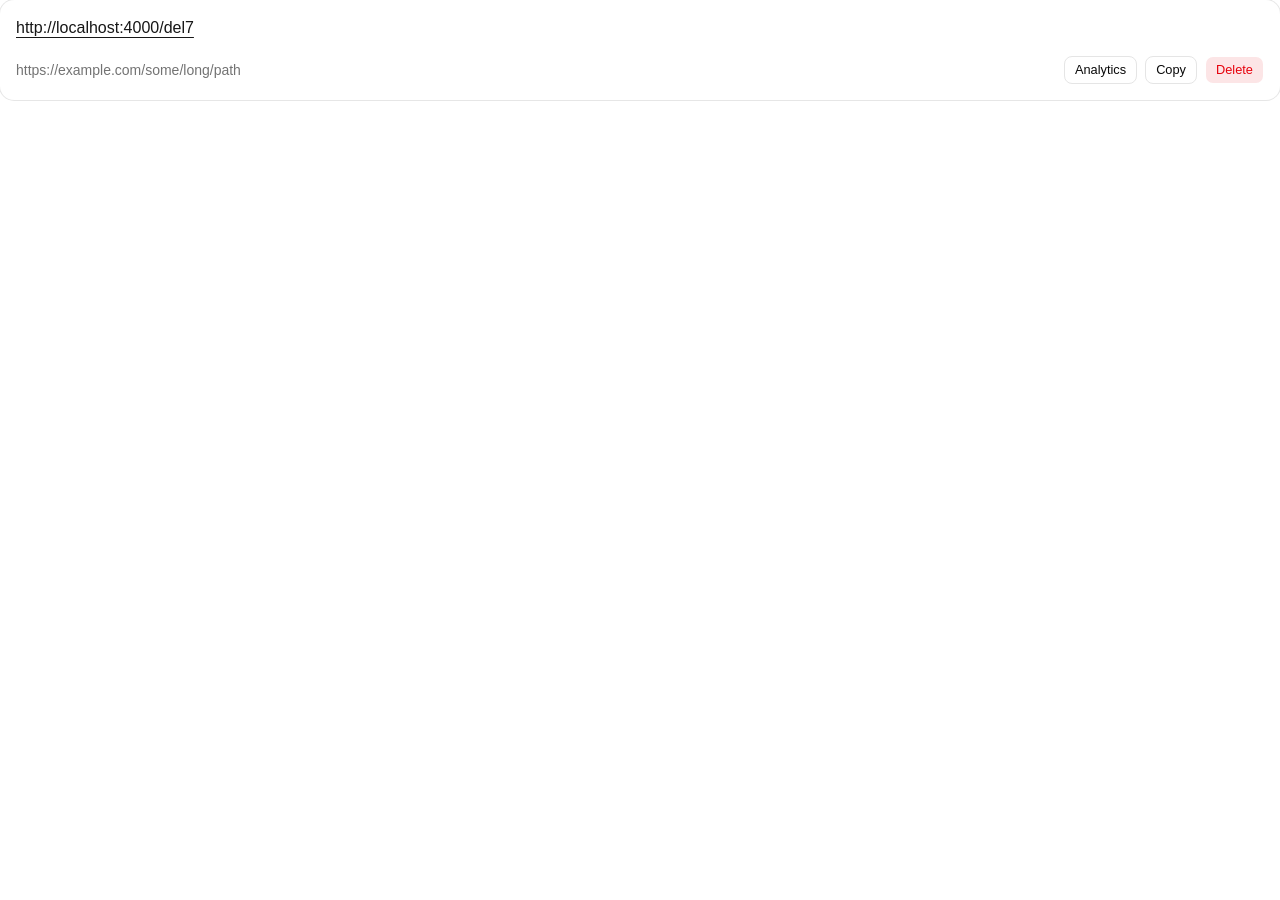
Test: LinksList › opens the confirm dialog on Delete click instead of deleting immediately
Expected: the text "Delete this link?" is not shown
Click the button "Delete". click: (1234, 70)
box: [1205,56,1264,84]
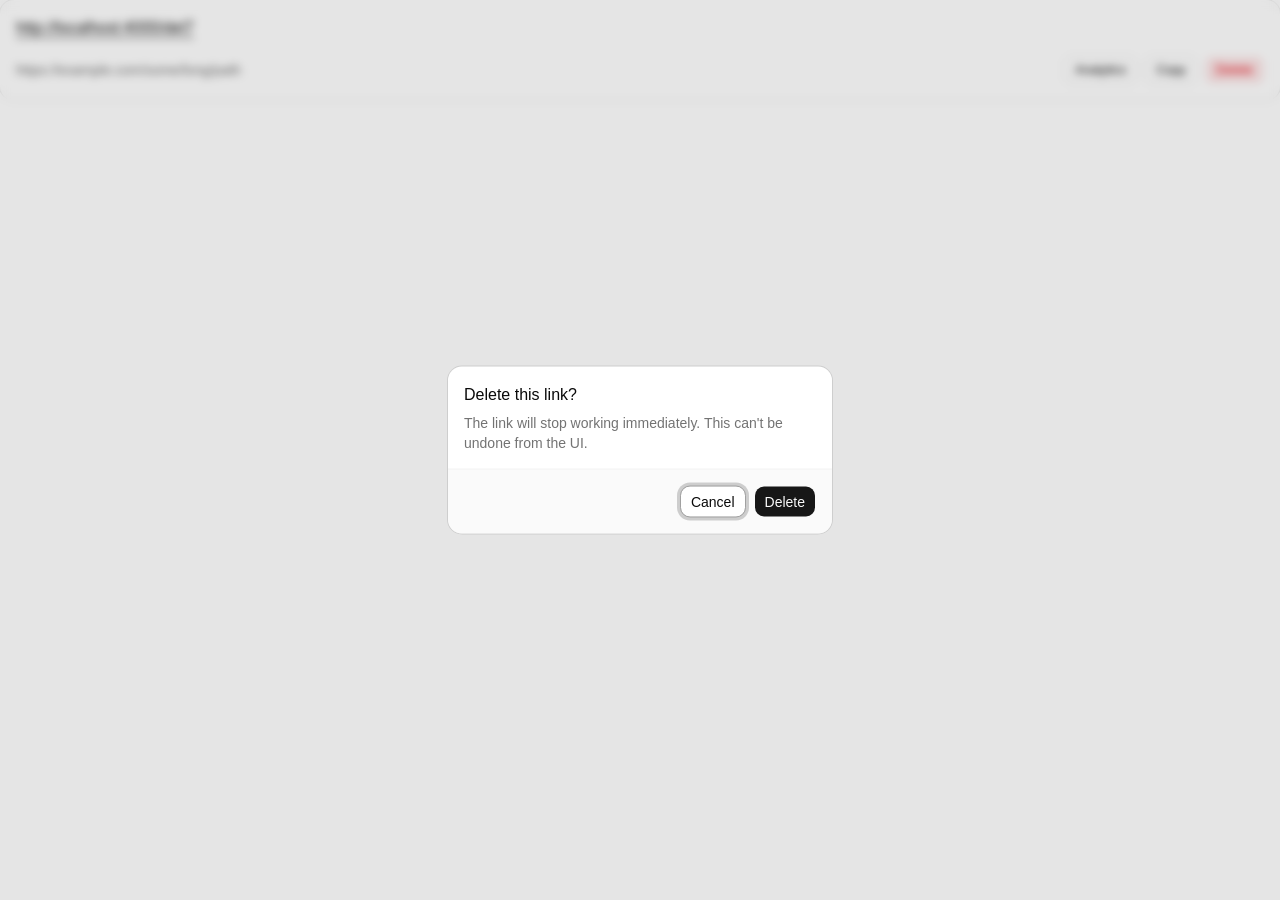
Expected: the heading "Delete this link?" is shown, [464,382,577,406]
